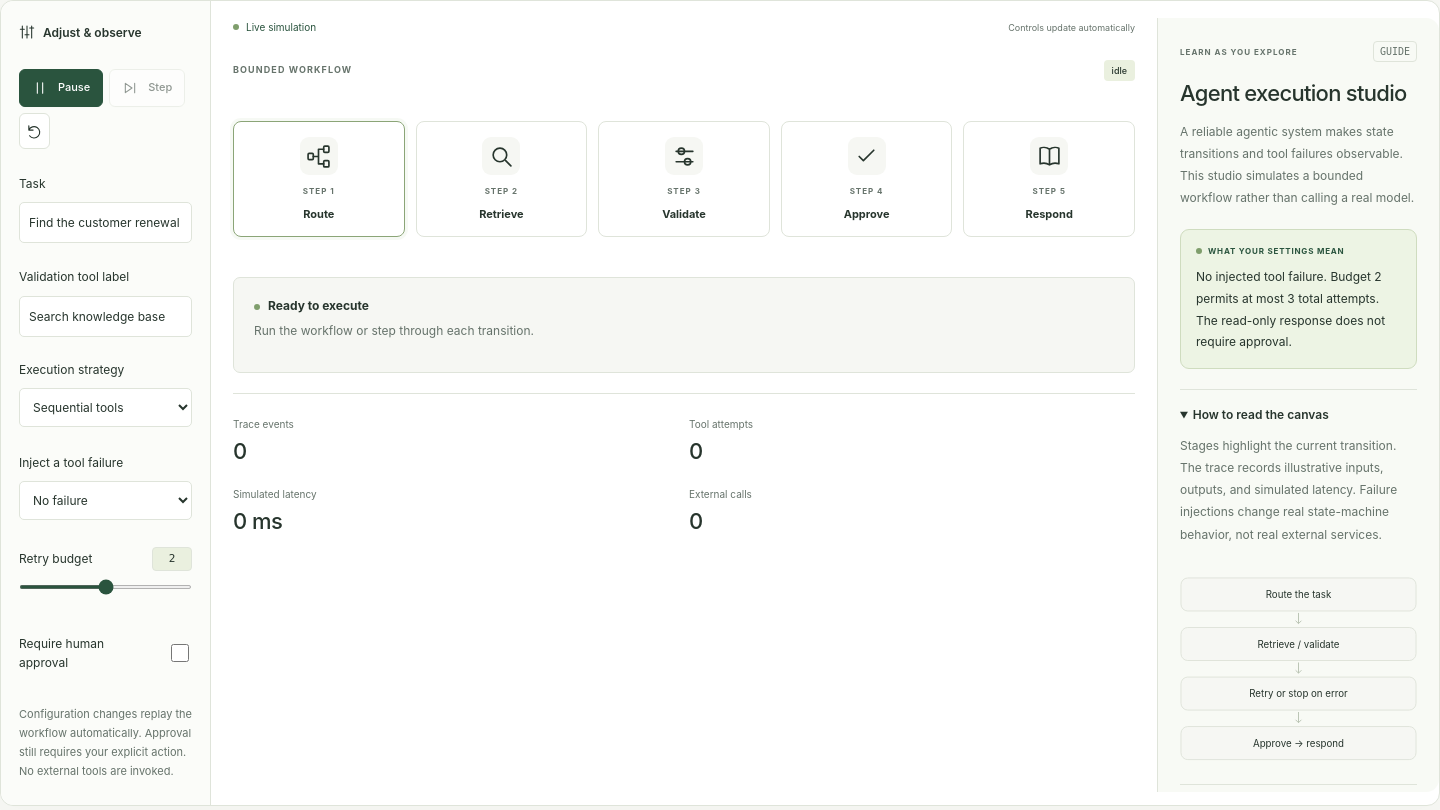
automatic, reactive, bounded playback › stops after persistent failure instead of looping autoplay
Select "Persistent timeout" in the dropdown labelled "Inject a tool failure": (106, 500) [19, 481, 192, 520]
Wait 7000 ms
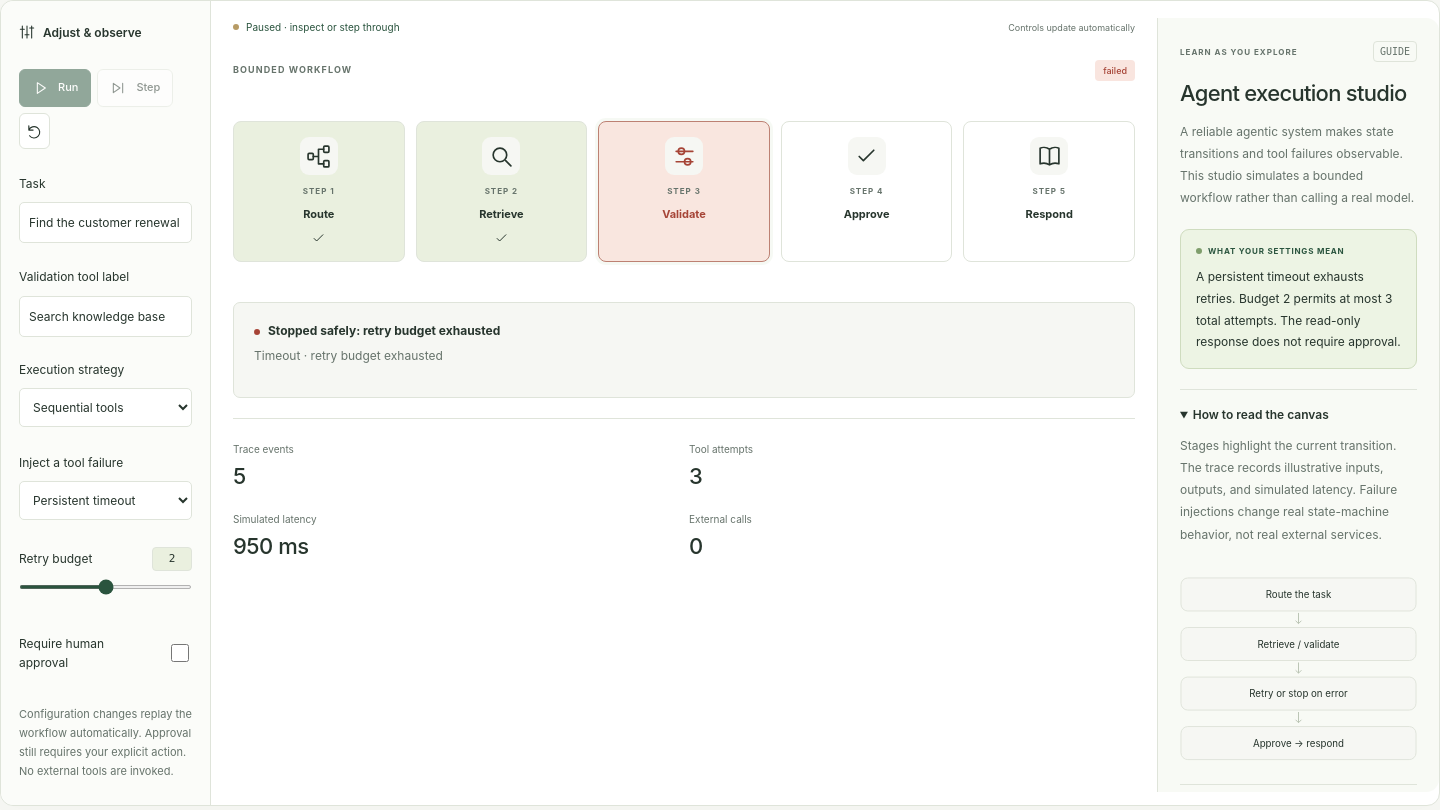
Check: the text "Stopped safely: retry budget exhausted" is shown, box [268, 323, 500, 338]
Check: the button "Run" is disabled, box [19, 69, 91, 107]
Check: the text "3" is shown, box [689, 463, 702, 489]
